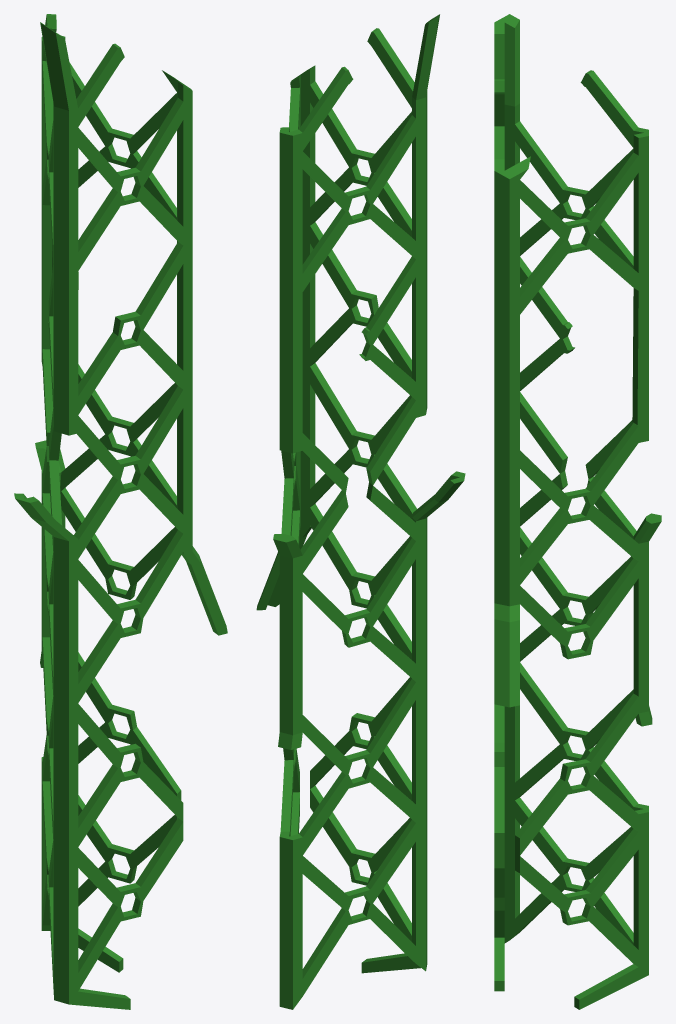
The model's file is BeamBroken.FBX.
3 views of the same model, side by side, from view 1: azimuth 30°, elevation 25°; view 2: azimuth 150°, elevation 25°; view 3: azimuth 270°, elevation 25° (orthographic). The views are drawn at different scales.
Parts seen in each view (by area): view 1: BeamBroken_low; view 2: BeamBroken_low; view 3: BeamBroken_low.
Part boxes in pixels (bbox=[...]): BeamBroken_low: bbox=[14, 14, 227, 1009]; BeamBroken_low: bbox=[256, 14, 465, 1009]; BeamBroken_low: bbox=[494, 14, 661, 1009].
Size of the model in its own units: 93 by 421 by 67.82.
